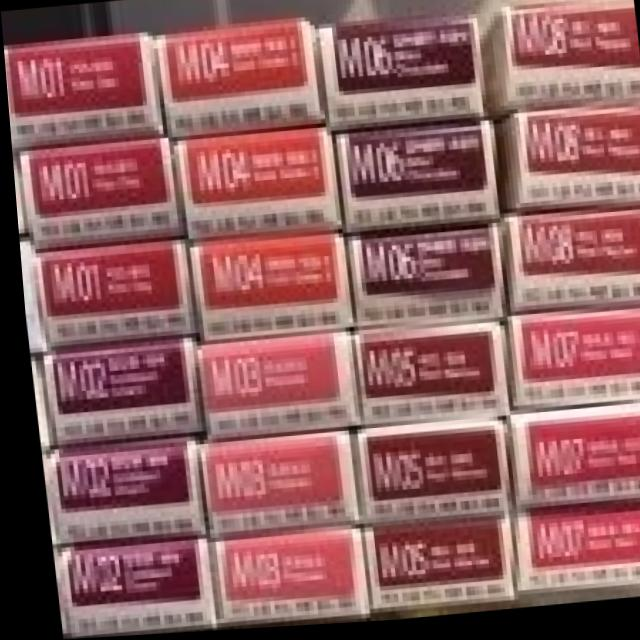box: (151, 21, 325, 141), (319, 19, 483, 130), (482, 7, 638, 123), (329, 126, 498, 233), (186, 234, 350, 343), (18, 136, 179, 247), (3, 36, 162, 148), (37, 439, 200, 548), (341, 221, 501, 332), (37, 335, 197, 445), (172, 135, 335, 241), (346, 427, 506, 531), (36, 239, 194, 344), (194, 433, 353, 537), (194, 340, 355, 439), (492, 113, 640, 219), (352, 323, 504, 426), (47, 535, 206, 633), (202, 529, 360, 625), (354, 520, 509, 615), (499, 212, 640, 316), (503, 313, 640, 415), (506, 415, 640, 514), (506, 506, 640, 599), (16, 233, 44, 352), (10, 149, 30, 239), (33, 355, 51, 450)
